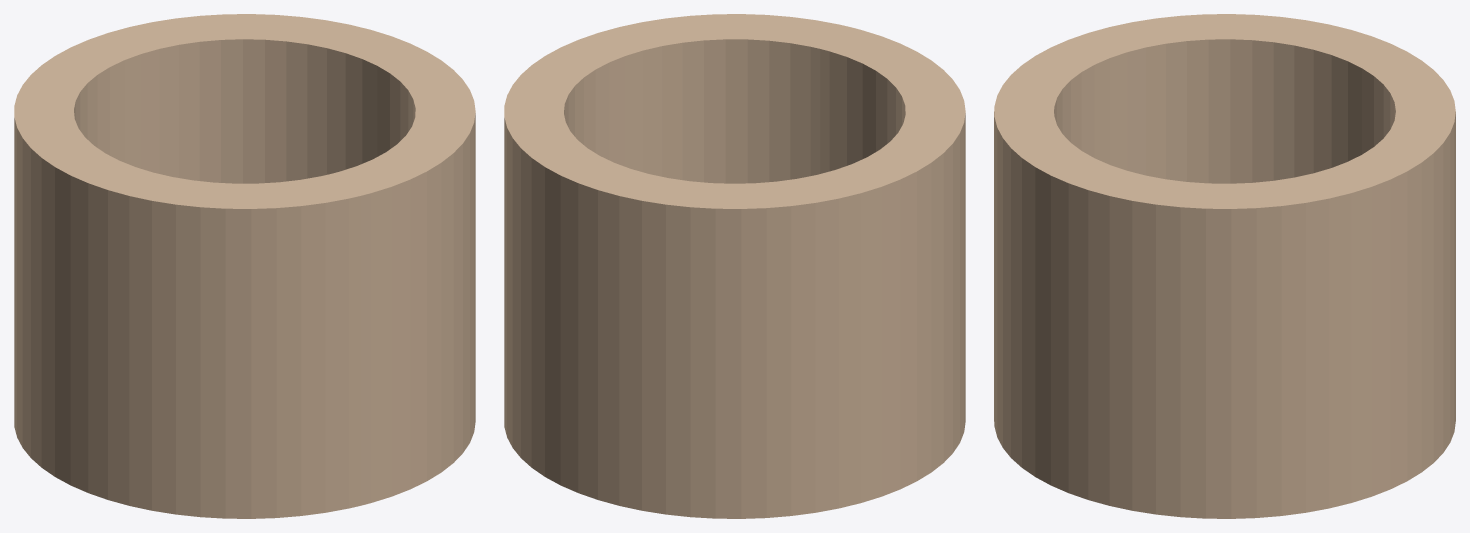
The model's file is c_1.3dxml.glb.
The picture shows the model from 3 angles, left to right: view 1: azimuth 30°, elevation 25°; view 2: azimuth 150°, elevation 25°; view 3: azimuth 270°, elevation 25°; orthographic projection.
Visible parts, largest first — view 1: 热熔螺母; view 2: 热熔螺母; view 3: 热熔螺母.
Boxes of the visible parts, x1,y1,x2,y2 form: 热熔螺母: (14, 14, 475, 518); 热熔螺母: (504, 14, 965, 518); 热熔螺母: (994, 14, 1455, 518).
Size of the model in its own units: 0.0027 by 0.002 by 0.0027.
